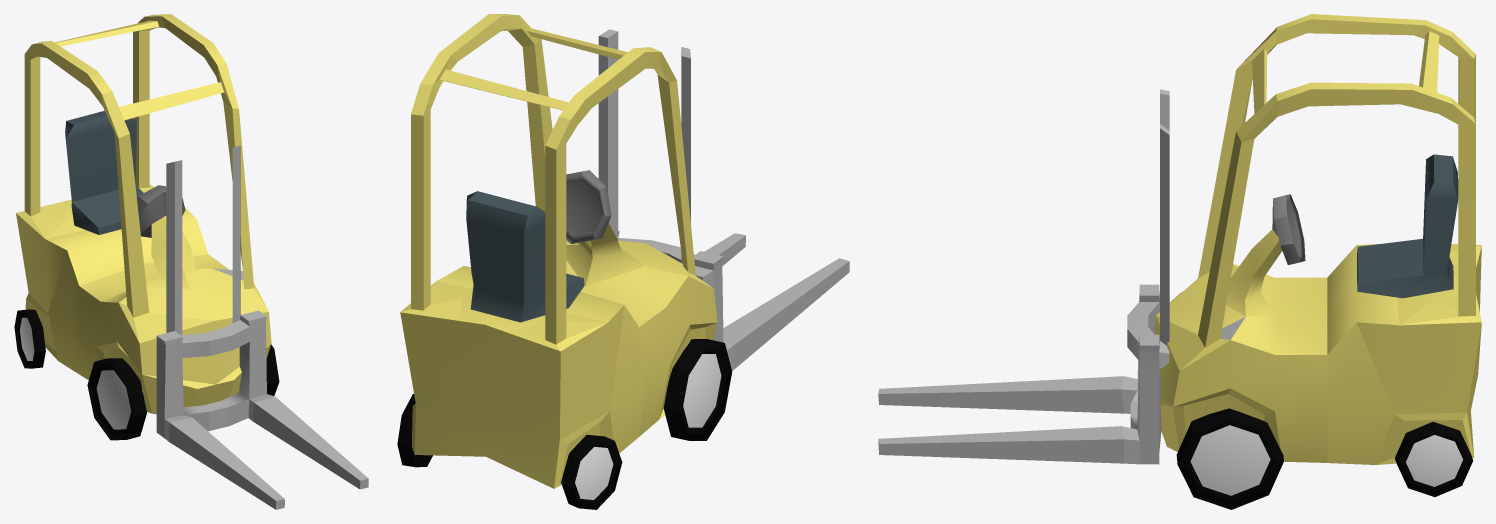
Rendered from Gabelstabler.fbx.
3 views of the same model, side by side, from view 1: azimuth 30°, elevation 25°; view 2: azimuth 150°, elevation 25°; view 3: azimuth 270°, elevation 25° (orthographic). The views are drawn at different scales.
Visible parts, largest first — view 1: Gabelstabler; view 2: Gabelstabler; view 3: Gabelstabler.
Part boxes in pixels (x1,y1,x2,y2): Gabelstabler: (14,14,368,509); Gabelstabler: (397,14,849,509); Gabelstabler: (878,14,1481,509).
Size of the model in its own units: 2.03 by 4.24 by 5.57.
